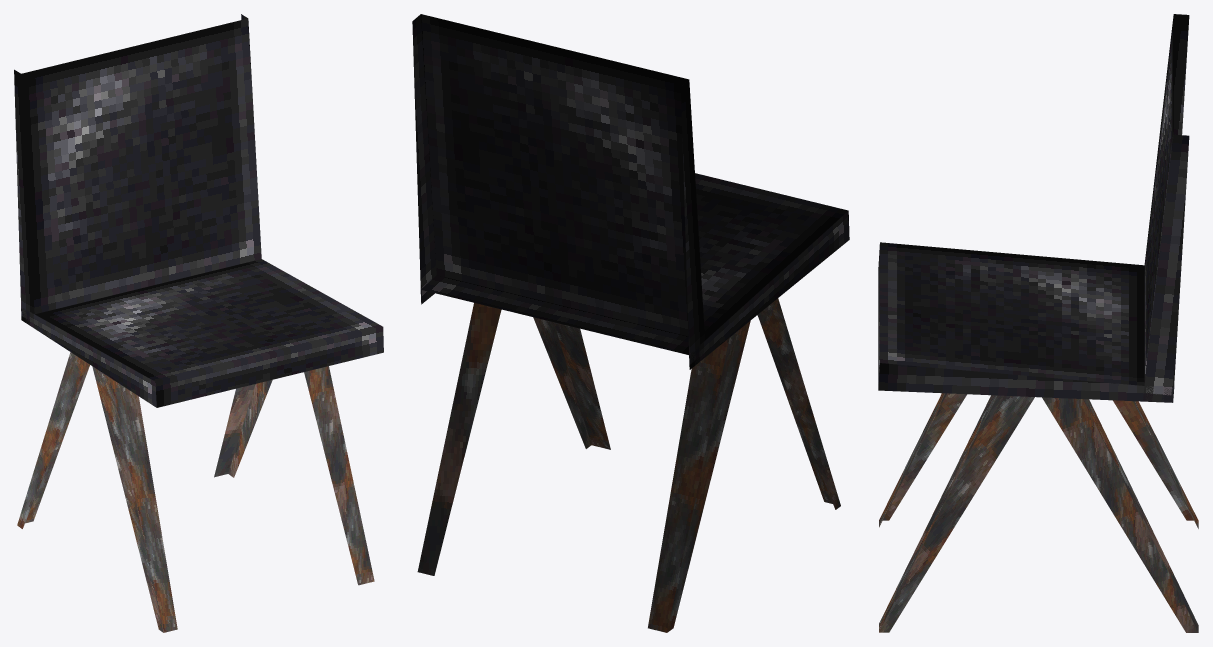
Rendered from Pmetal_chair1Z.obj.
3 renders of one model, left to right at view 1: azimuth 30°, elevation 25°; view 2: azimuth 150°, elevation 25°; view 3: azimuth 270°, elevation 25°, orthographic. The views are drawn at different scales.
Bounding box in the file's own units: 526 × 1022 × 590.
Materials: 2 (2 with a texture image).
